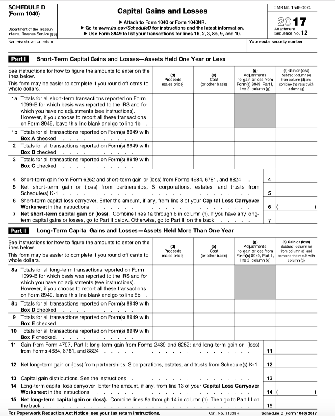textbox: (6, 38, 248, 54), (150, 262, 195, 302), (191, 262, 236, 302), (234, 262, 278, 302), (232, 91, 277, 130), (273, 91, 318, 130), (191, 91, 237, 129), (273, 262, 317, 301), (150, 91, 195, 129), (245, 37, 318, 53), (273, 353, 319, 372), (273, 379, 319, 398), (274, 392, 320, 411), (150, 139, 195, 158), (191, 138, 236, 157), (193, 152, 238, 171), (273, 179, 318, 198), (150, 296, 195, 315), (232, 296, 277, 315), (191, 323, 236, 342), (232, 323, 277, 342), (273, 324, 318, 343), (273, 337, 318, 356), (275, 139, 319, 158), (151, 152, 195, 171), (275, 153, 319, 172), (274, 166, 318, 185), (232, 310, 278, 328), (150, 125, 195, 143), (190, 125, 235, 143), (233, 125, 278, 143), (232, 152, 277, 170), (273, 192, 318, 210), (273, 207, 318, 225), (191, 297, 236, 315), (273, 297, 318, 315), (151, 310, 196, 328), (191, 310, 236, 328), (274, 310, 319, 328), (150, 323, 195, 341), (273, 366, 318, 384), (274, 126, 318, 144), (233, 139, 277, 157)
